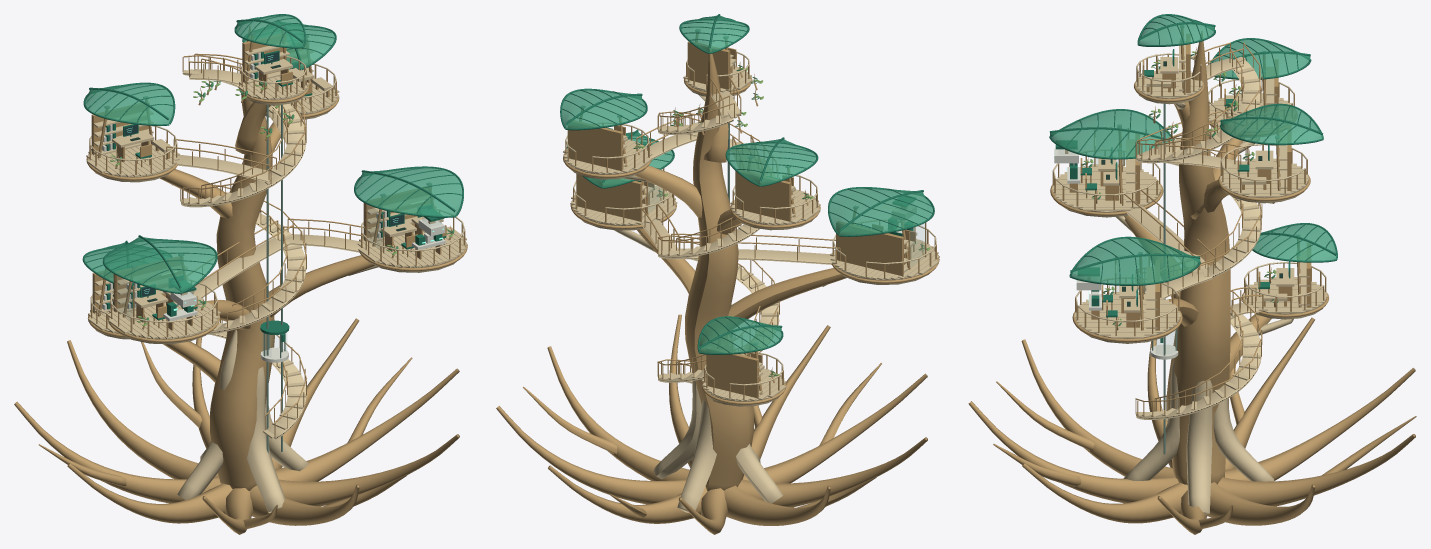
Rendered from opensource-refined-v1-low.glb.
The picture shows the model from 3 angles, left to right: view 1: azimuth 30°, elevation 25°; view 2: azimuth 150°, elevation 25°; view 3: azimuth 270°, elevation 25°; orthographic projection. The views are drawn at different scales.
Visible parts, largest first — view 1: tree_structural_wood, tree_cut_wood, tree_leaf_glass, tree_enamel, tree_bronze_alloy, tree_clear_glass, tree_ivory, tree_display; view 2: tree_structural_wood, tree_cut_wood, tree_leaf_glass, tree_enamel, tree_clear_glass; view 3: tree_structural_wood, tree_cut_wood, tree_leaf_glass, tree_enamel, tree_bronze_alloy.
Part boxes in pixels (x1,y1,x2,y2): tree_structural_wood: (14,28,467,534); tree_cut_wood: (86,42,467,513); tree_leaf_glass: (84,15,462,292); tree_enamel: (82,14,463,320); tree_bronze_alloy: (105,26,431,453); tree_clear_glass: (117,205,384,321); tree_ivory: (102,52,445,321); tree_display: (124,52,431,296); tree_structural_wood: (496,34,939,534); tree_cut_wood: (563,51,939,513); tree_leaf_glass: (562,15,932,352); tree_enamel: (560,14,934,354); tree_clear_glass: (648,169,924,266); tree_structural_wood: (968,28,1416,534); tree_cut_wood: (1052,41,1327,514); tree_leaf_glass: (1050,15,1336,283); tree_enamel: (1049,14,1337,317); tree_bronze_alloy: (1073,25,1299,454).
Bounding box in the file's own units: 15.27 × 18.31 × 15.06.
